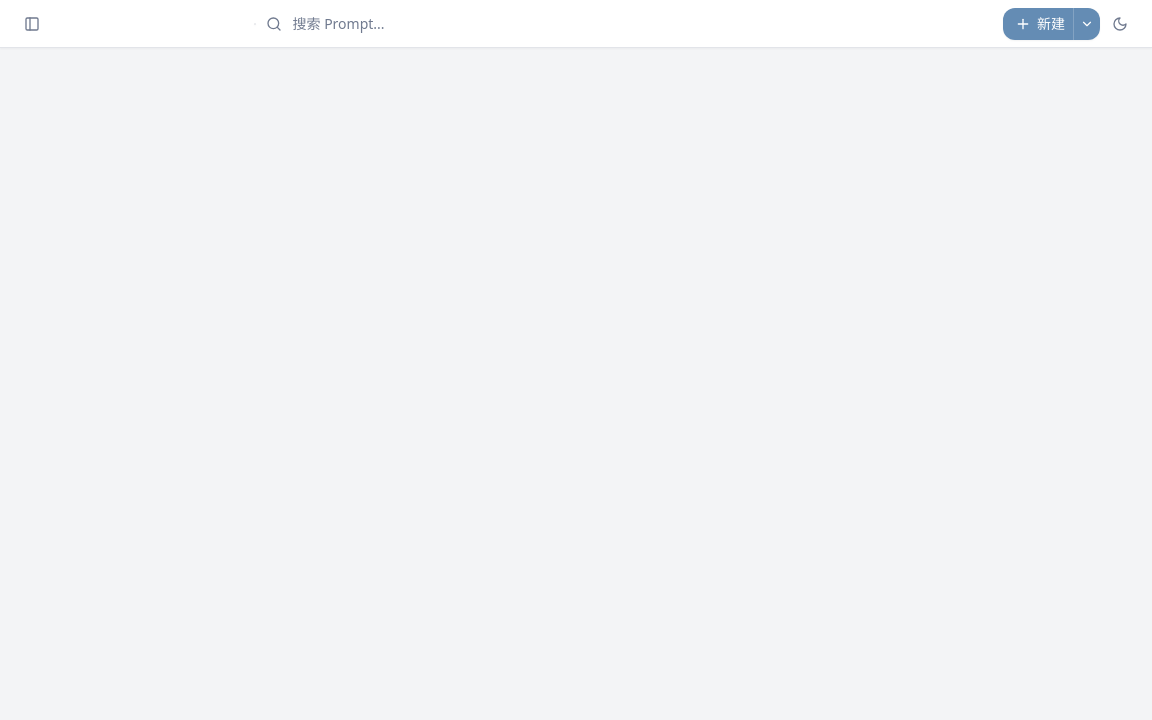
Test: TopBar › closes the create mode dropdown when clicking outside
Click the 3rd button at (1087, 24), box x1=1074 y1=8 x2=1100 y2=40
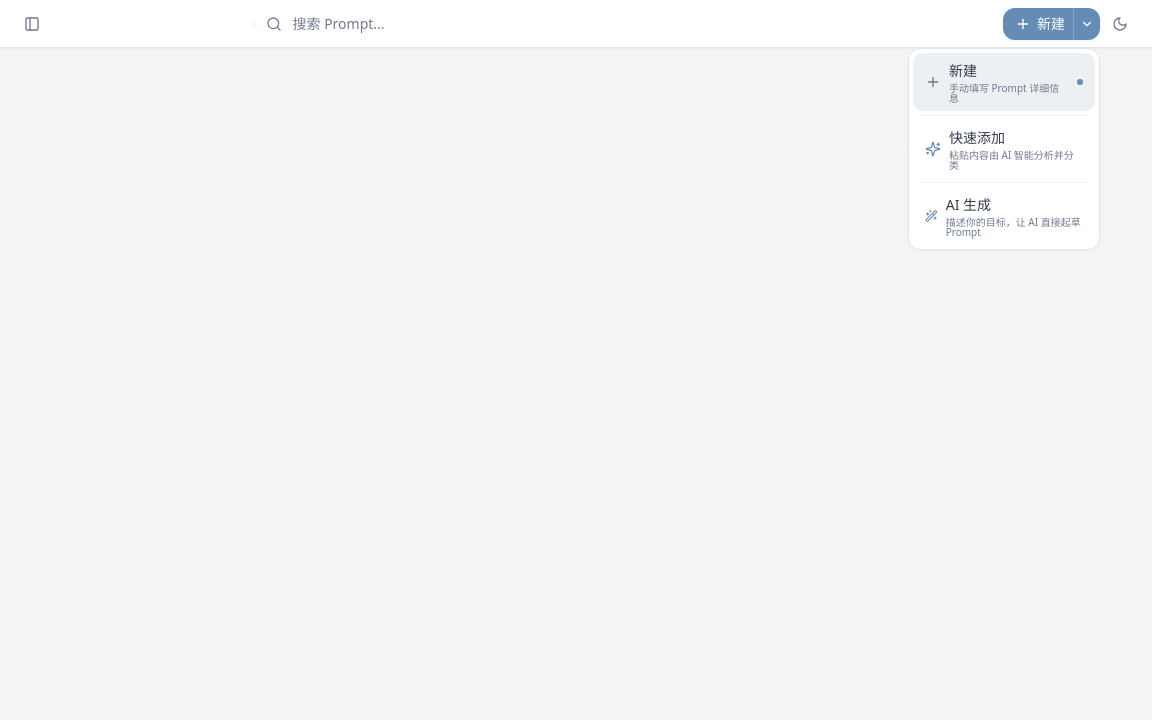
Check: the menu is shown, box x1=908 y1=48 x2=1100 y2=250
Press the mouse on the element that starts with "手动填写 Prompt 详细信息" at (576, 360), box x1=0 y1=0 x2=1151 y2=719
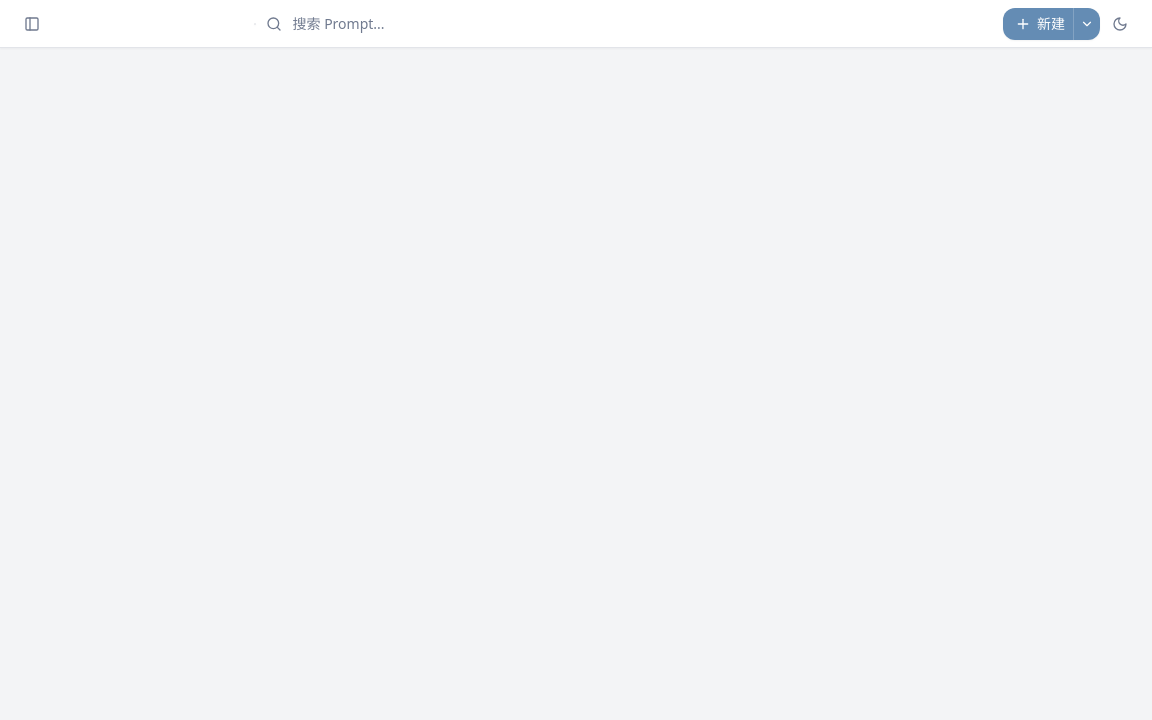
Check: the menu is gone
